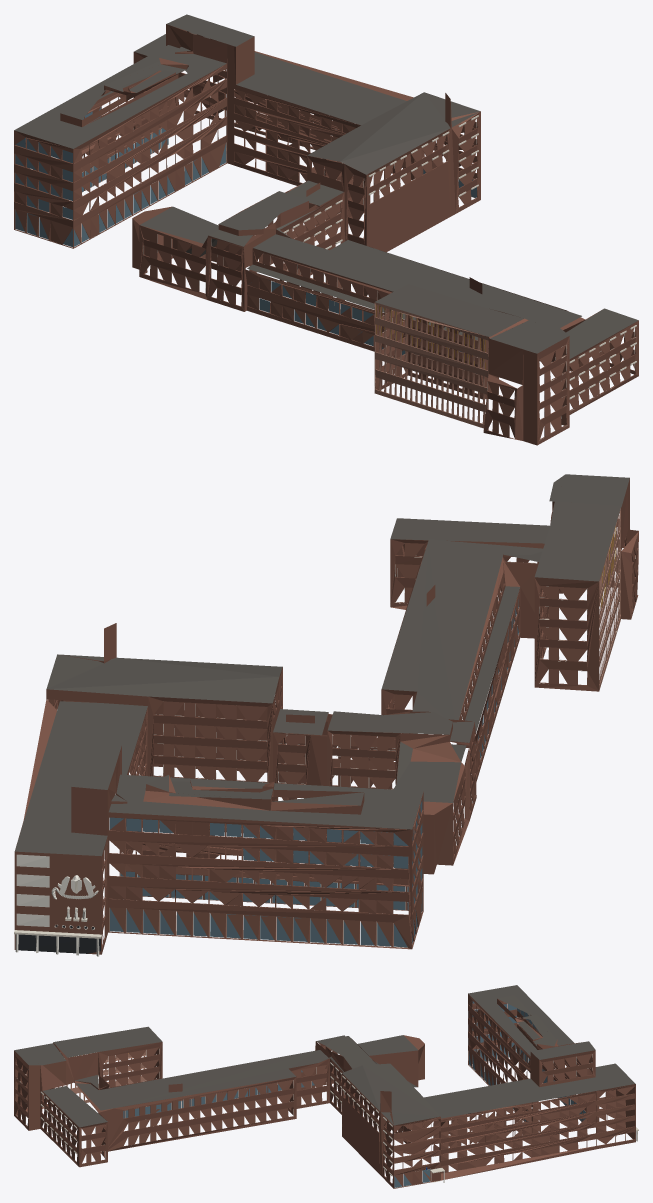
Rendered from hoofdbureau-elandsgracht.lod1.glb.
3 renders of one model, top to bottom at view 1: azimuth 30°, elevation 25°; view 2: azimuth 150°, elevation 25°; view 3: azimuth 270°, elevation 25°, orthographic. The views are drawn at different scales.
Parts seen in each view (by area): view 1: hoofdbureau-elandsgracht; view 2: hoofdbureau-elandsgracht; view 3: hoofdbureau-elandsgracht.
Part boxes in pixels (x1,y1,x2,y2): hoofdbureau-elandsgracht: [14, 14, 638, 445]; hoofdbureau-elandsgracht: [14, 474, 638, 956]; hoofdbureau-elandsgracht: [14, 985, 638, 1188].
Bounding box in the file's own units: 82.71 × 24.82 × 164.
